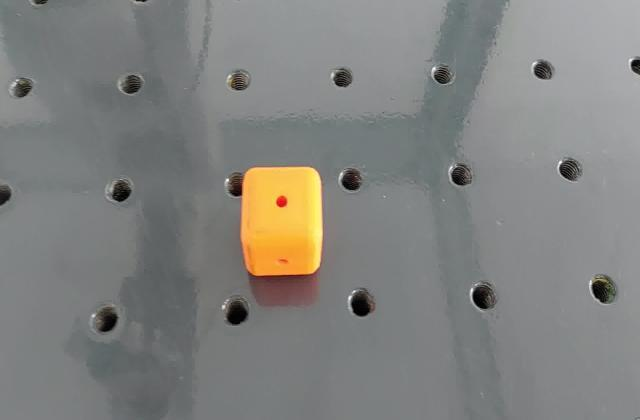cube: (235, 164, 326, 281)
